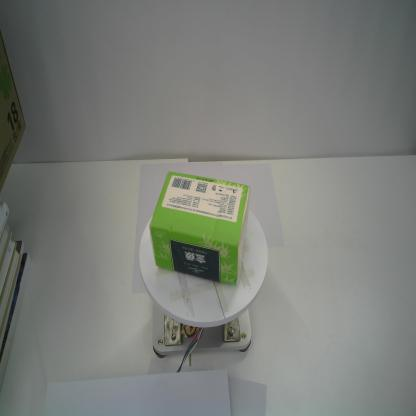Tissue: (150, 170, 251, 286)
